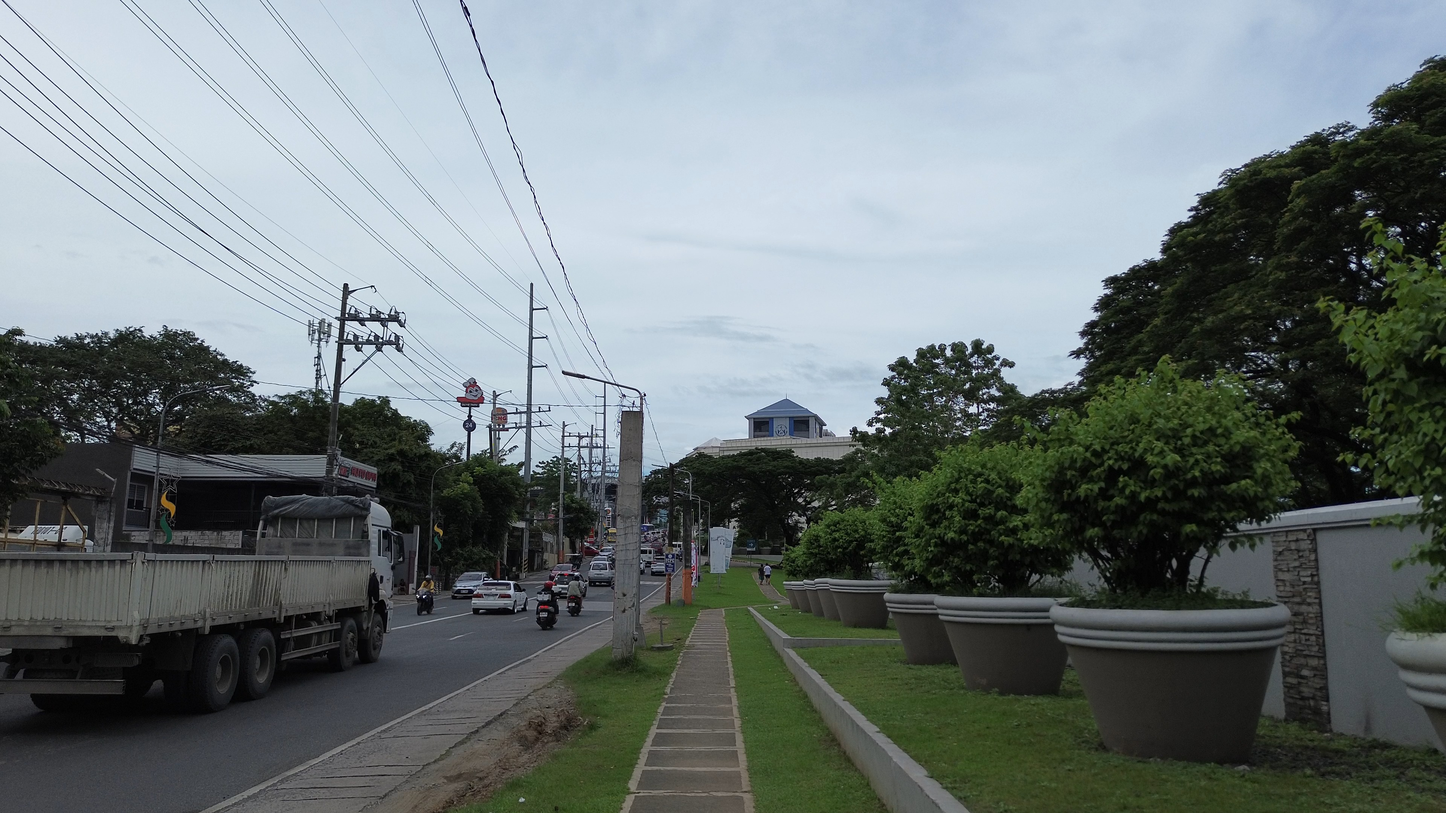car: (471, 581, 528, 614), (548, 563, 578, 583)
motorcycle: (535, 600, 558, 630), (415, 589, 433, 615), (567, 596, 583, 617)
truck: (0, 496, 404, 711)
vehicle: (451, 572, 487, 599), (535, 588, 558, 630), (586, 557, 615, 587), (548, 563, 578, 584), (415, 588, 434, 615), (650, 556, 666, 575), (583, 544, 599, 557)
